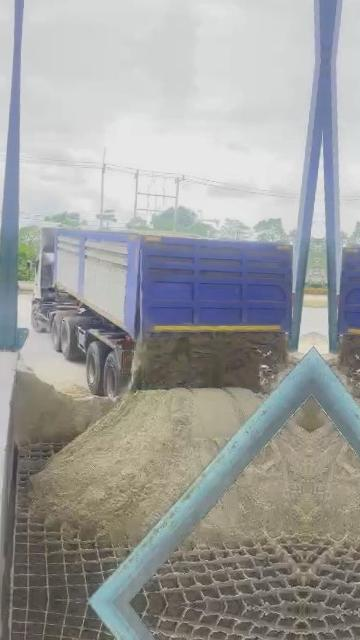sand: (32, 389, 261, 543), (194, 422, 310, 541), (132, 331, 287, 391), (13, 360, 113, 444), (117, 226, 207, 239), (272, 353, 301, 389), (295, 395, 312, 432)
